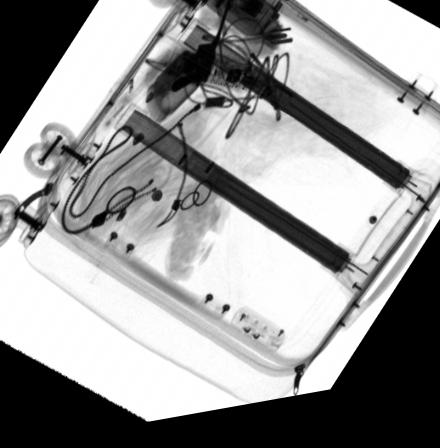Gun: (171, 8, 231, 99)
